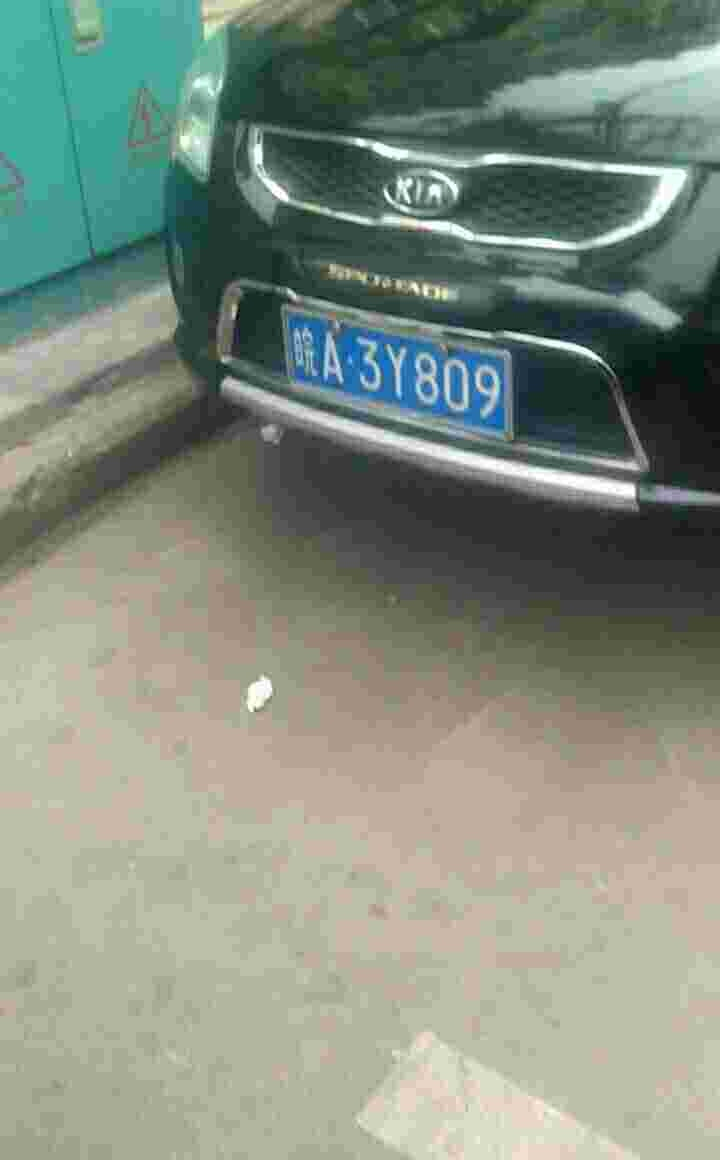license_plate: (291, 313, 507, 440)
